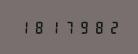eight: (32, 20, 46, 34), (92, 20, 106, 34)
nine: (77, 20, 91, 34)
one: (17, 20, 31, 34), (47, 20, 61, 34)
seven: (62, 20, 76, 34)
two: (107, 20, 121, 34)
